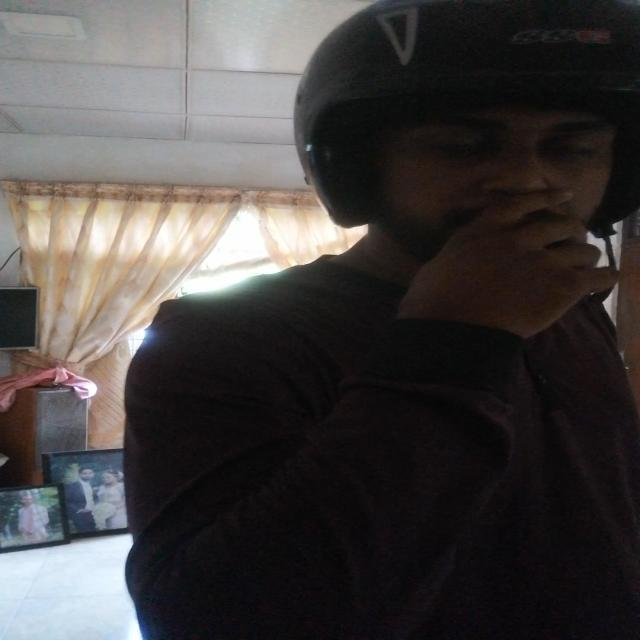Helmet_Wearer: (284, 0, 640, 285)
Person: (135, 0, 640, 636)
